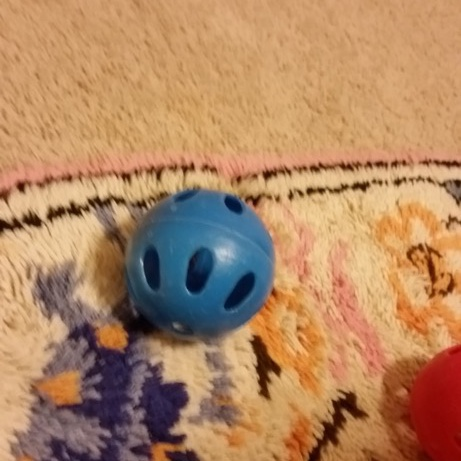blueball: (126, 181, 279, 349)
redball: (407, 337, 461, 461)
